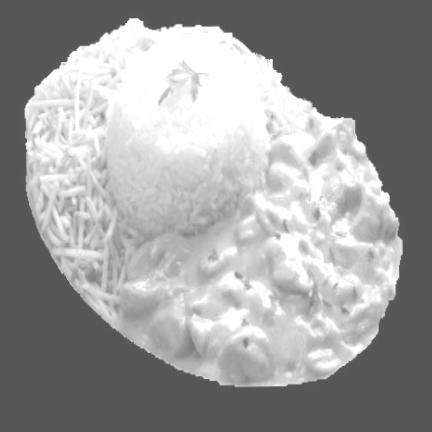chicken: (119, 116, 401, 383)
potato: (25, 18, 311, 324)
rice: (107, 36, 269, 236)
